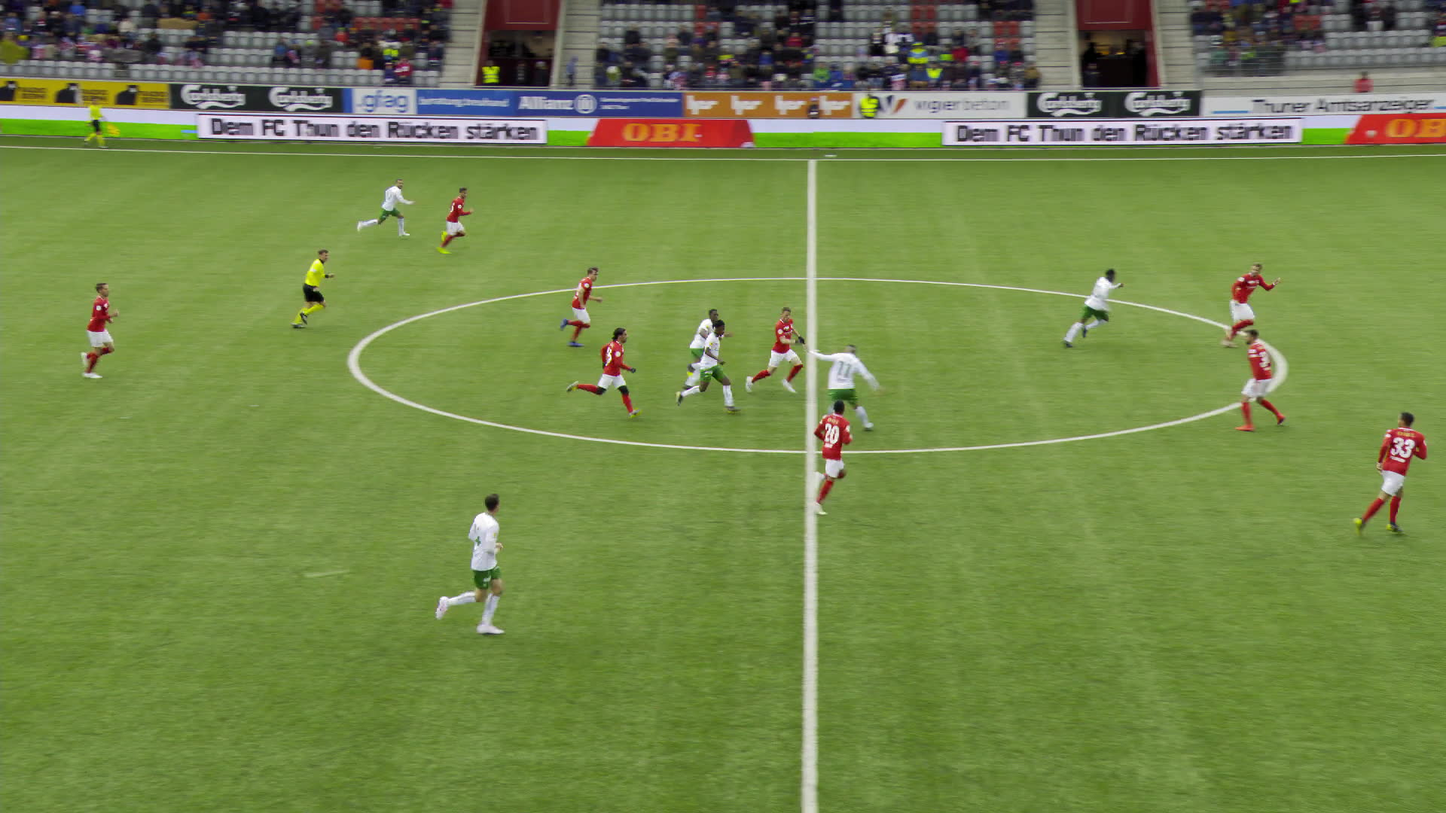player: (429, 489, 515, 638), (1349, 406, 1432, 543), (807, 333, 889, 441), (563, 324, 647, 422), (801, 397, 859, 516), (675, 315, 742, 416), (1217, 257, 1284, 352), (1229, 325, 1288, 432), (744, 303, 811, 397), (1059, 262, 1127, 352), (71, 278, 125, 383), (676, 307, 734, 399), (552, 260, 610, 349), (354, 175, 419, 243), (430, 185, 475, 255)
referee: (286, 243, 339, 333), (78, 95, 124, 150)
